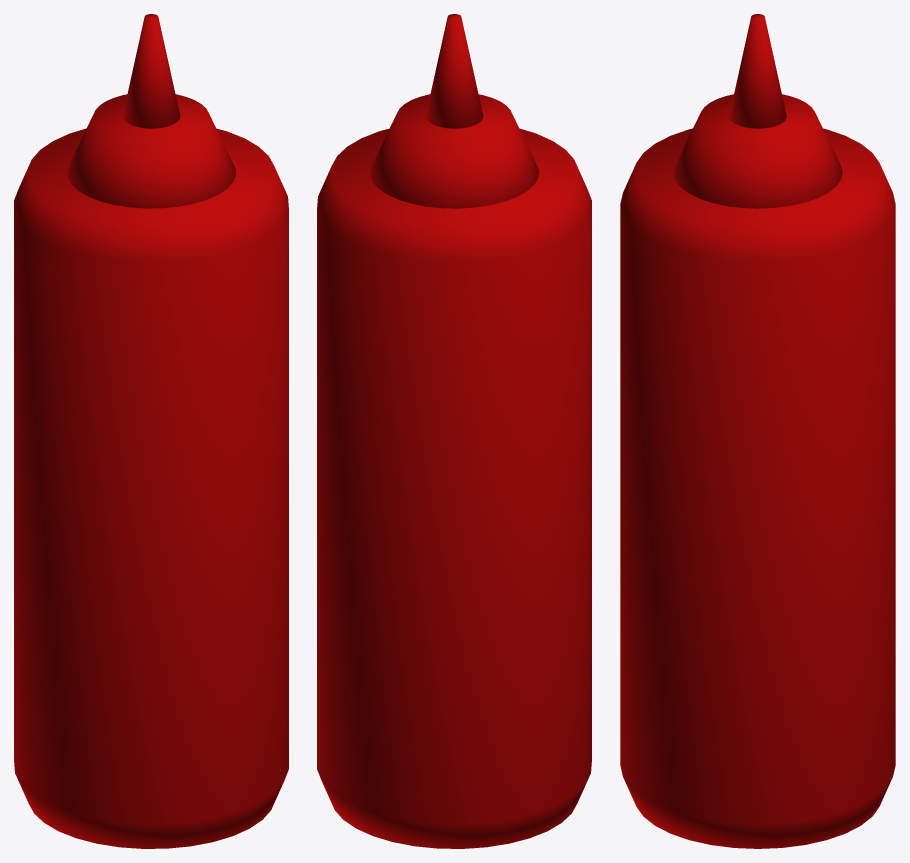
The model's file is squeeze_bottle.glb.
3 renders of one model, left to right at view 1: azimuth 30°, elevation 25°; view 2: azimuth 150°, elevation 25°; view 3: azimuth 270°, elevation 25°, orthographic.
Visible parts, largest first — view 1: Cylinder; view 2: Cylinder; view 3: Cylinder.
Boxes of the visible parts, x1,y1,x2,y2 form: Cylinder: (14, 14, 288, 848); Cylinder: (317, 14, 591, 848); Cylinder: (620, 14, 895, 848).
Bounding box in the file's own units: 0.8 × 2.5 × 0.8.
